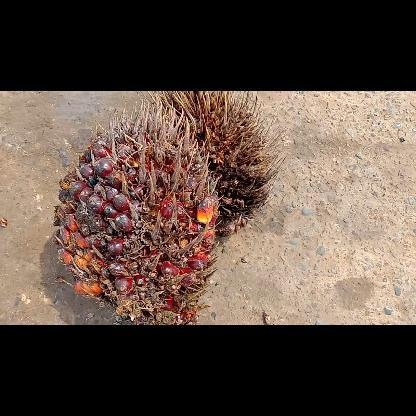Janjang kosong: (142, 90, 286, 233)
TBS masak: (54, 98, 222, 324)
